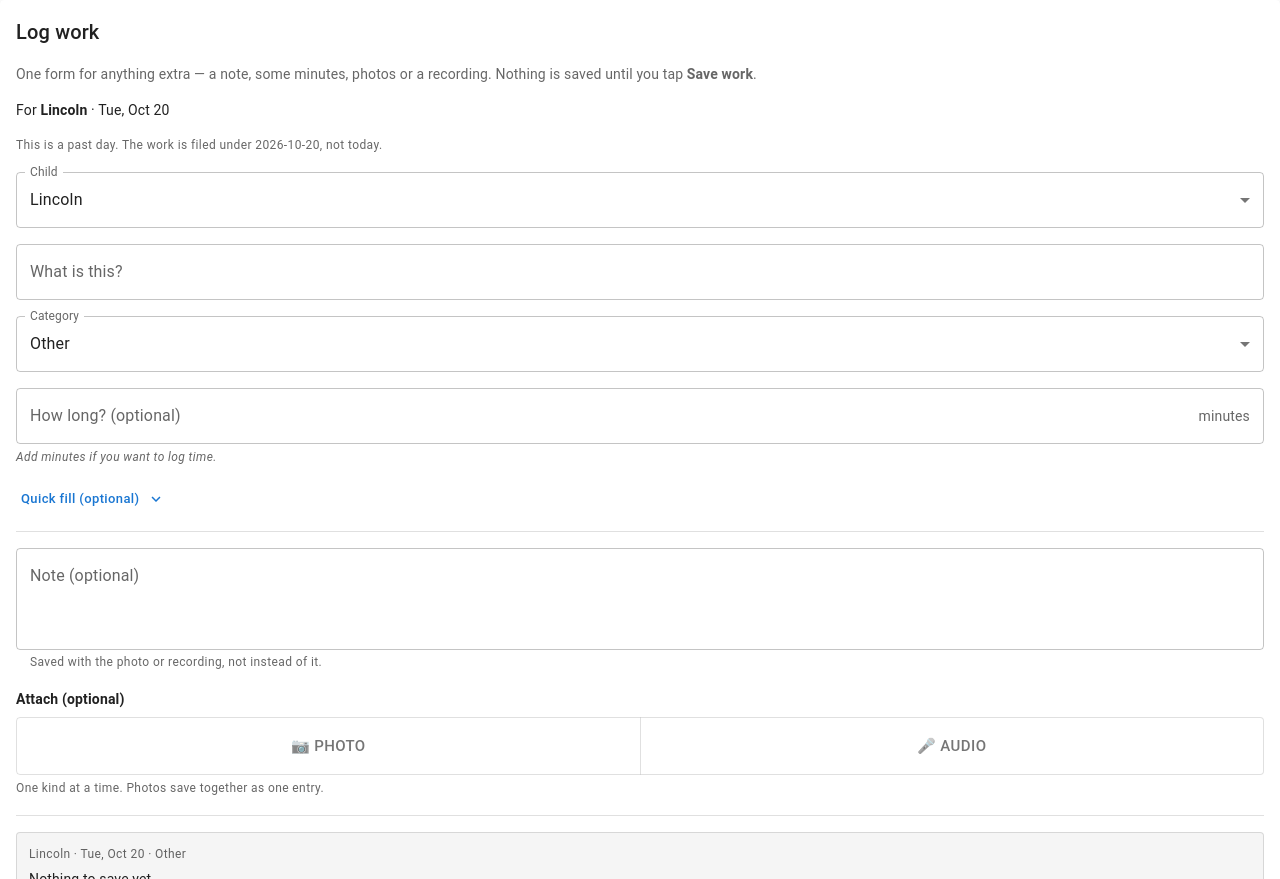
Test case: Log work + real AudioRecorder — a stopped take is in the draft › takes the recorder and the upload control away while a take is attached
Step 1. Click the button "🎤 Audio" → (952, 746), box [640,716,1264,775]
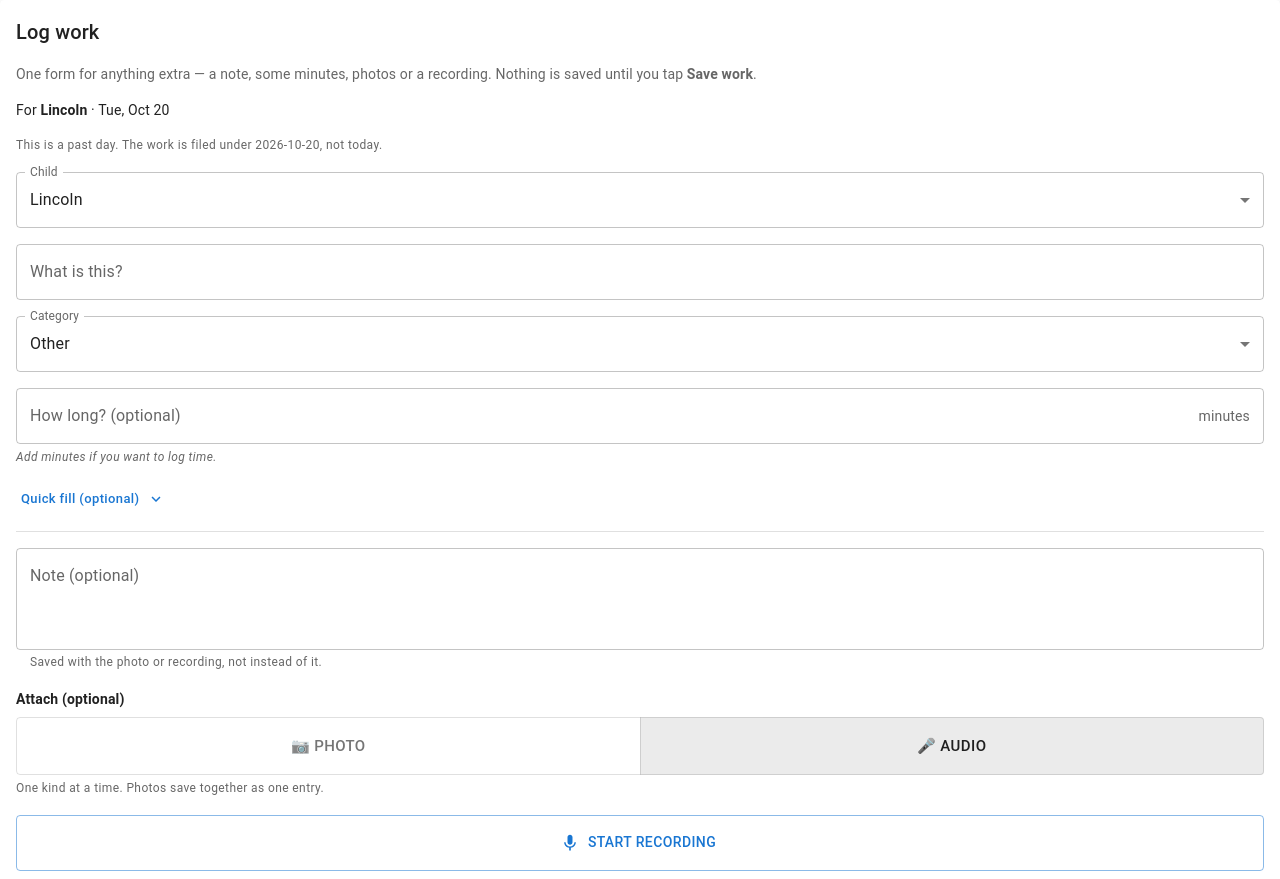
Step 2. Click the button "Start Recording" → (640, 843), box [16,815,1264,871]
(page scrolled)
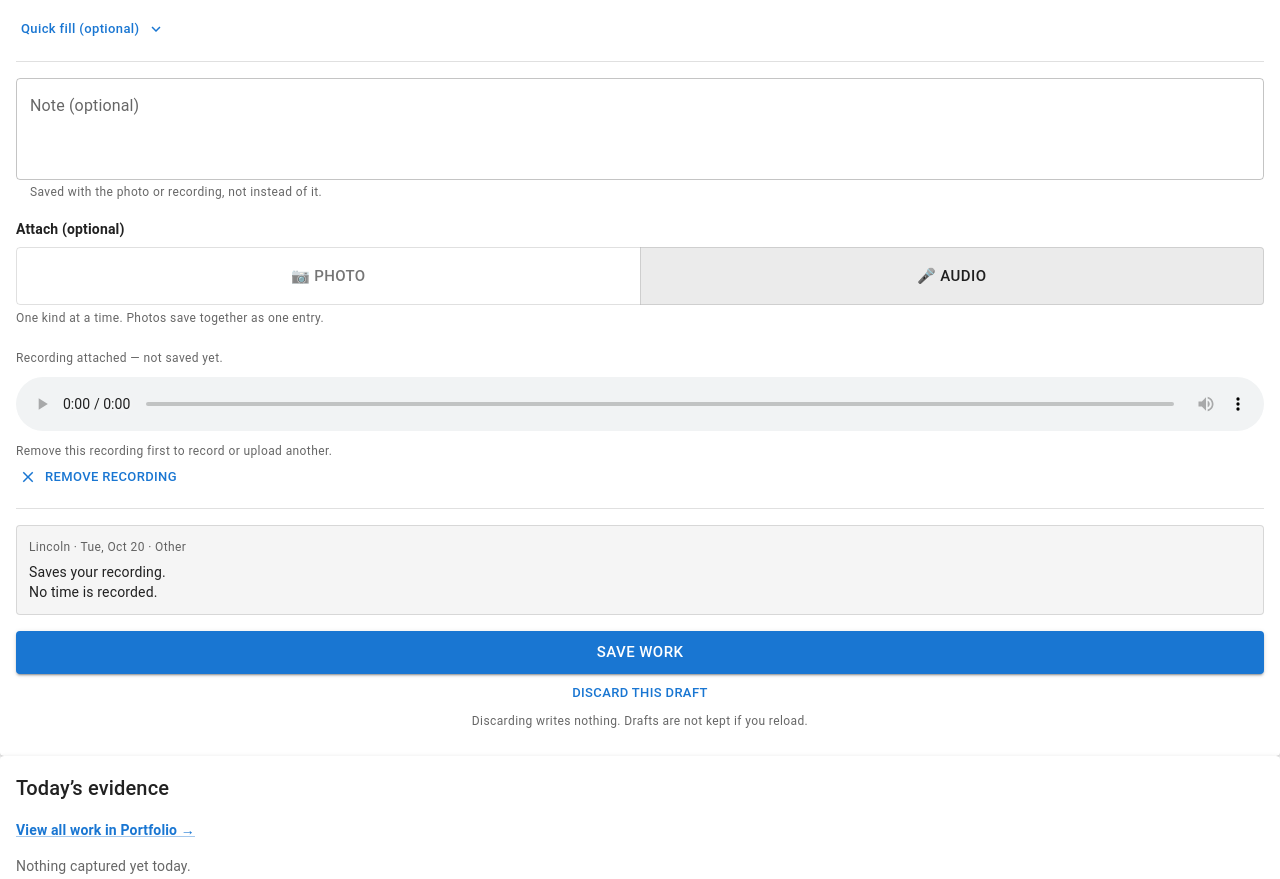
Result: the text "Recording attached — not saved yet." is shown at [16,351,223,365]
Result: the button "Start Recording" is gone
Result: the text "Remove this recording first to record or upload another." is shown at [16,444,332,458]
